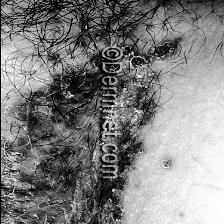Toxin: (0, 43, 100, 224), (119, 39, 177, 171)
